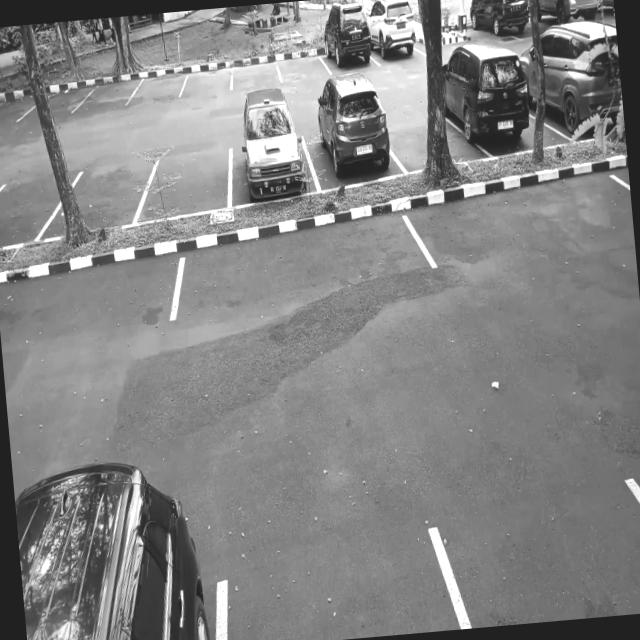car: (444, 54, 536, 160), (536, 36, 623, 144), (306, 90, 398, 188), (228, 121, 314, 208), (368, 4, 421, 66), (320, 16, 374, 76)
free: (437, 479, 640, 629), (209, 524, 468, 640), (167, 214, 422, 324), (417, 175, 636, 277), (0, 253, 181, 343), (56, 162, 152, 238), (141, 148, 234, 222), (0, 179, 55, 251), (22, 78, 84, 118), (182, 58, 236, 98), (82, 70, 136, 108), (132, 66, 185, 104), (276, 44, 326, 82), (230, 54, 282, 89), (0, 90, 28, 128)
